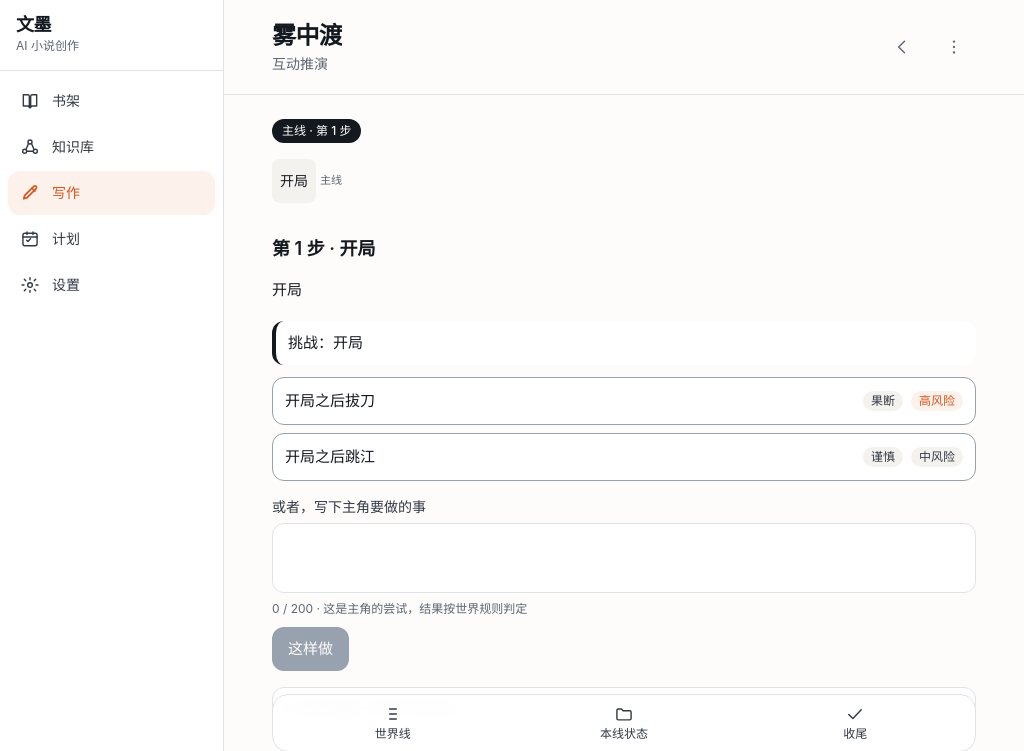
生成结果 › 截断（finish_reason: length）：显示截断提示，树里没有新节点（验收 20）
Click the button "开局之后拔刀 果断 高风险". click: (330, 401)
box: [272,377,976,425]
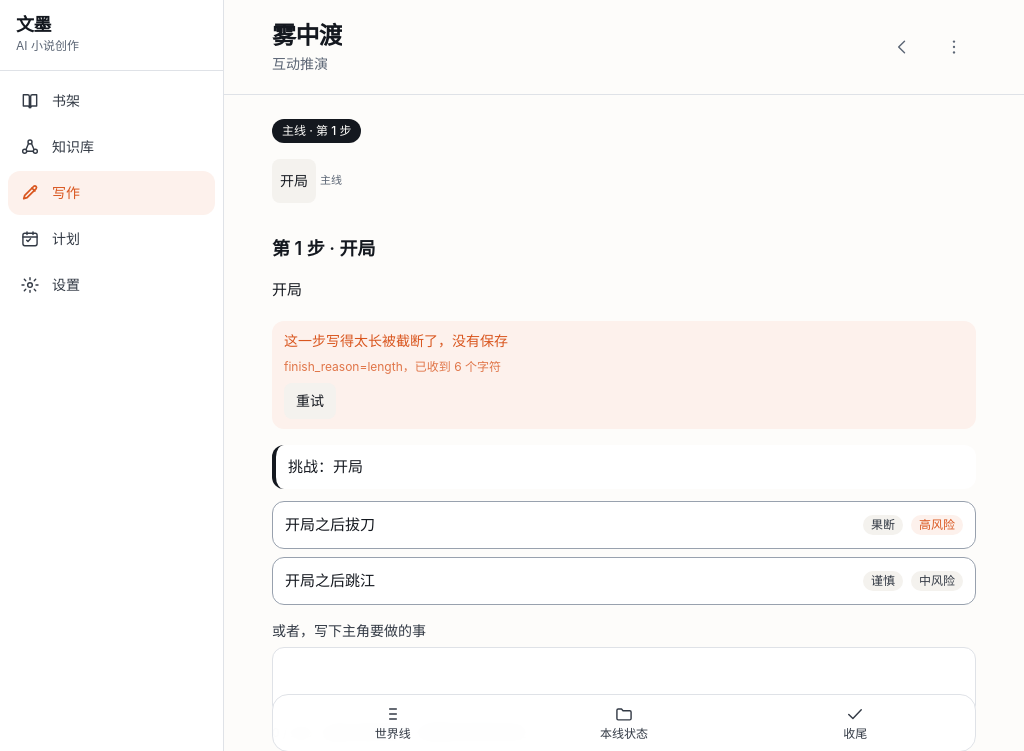
Expected: the heading "第 1 步 · 开局" is shown, [272,238,376,259]
Result: the message shows "这一步写得太长被截断了，没有保存" at [284,332,508,349]
Result: the button "重试" is shown at [284,383,336,419]
